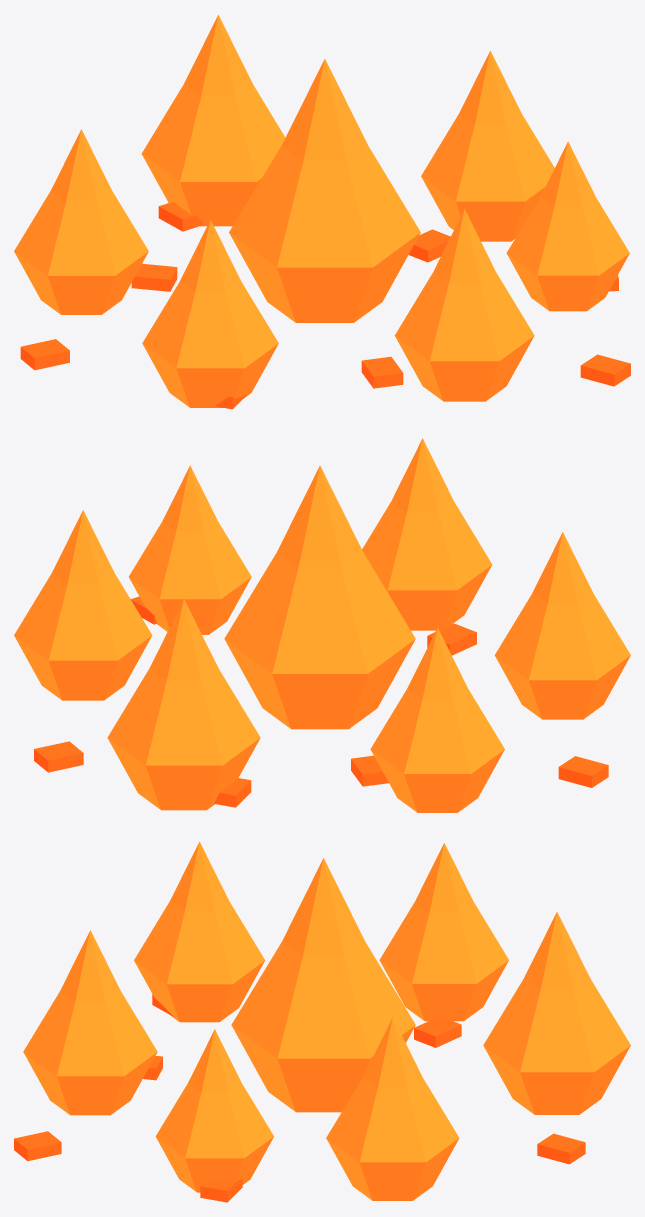
Rendered from flames.glb.
3 views of the same model, one above another, from view 1: azimuth 30°, elevation 25°; view 2: azimuth 150°, elevation 25°; view 3: azimuth 270°, elevation 25° (orthographic). The views are drawn at different scales.
Parts seen in each view (by area): view 1: flame_0_mesh, flame_2_mesh, flame_5_mesh, flame_4_mesh, flame_3_mesh, flame_1_mesh, flame_6_mesh, embers_mesh; view 2: flame_0_mesh, flame_2_mesh, flame_1_mesh, flame_4_mesh, flame_3_mesh, flame_5_mesh, flame_6_mesh, embers_mesh; view 3: flame_0_mesh, flame_2_mesh, flame_5_mesh, flame_1_mesh, flame_4_mesh, flame_3_mesh, flame_6_mesh, embers_mesh.
Part boxes in pixels (bbox=[...]): flame_0_mesh: bbox=[229, 59, 420, 322]; flame_2_mesh: bbox=[141, 15, 285, 226]; flame_5_mesh: bbox=[394, 209, 534, 401]; flame_4_mesh: bbox=[142, 220, 278, 407]; flame_3_mesh: bbox=[14, 129, 148, 314]; flame_1_mesh: bbox=[421, 51, 554, 241]; flame_6_mesh: bbox=[506, 141, 629, 311]; embers_mesh: bbox=[20, 202, 630, 409]; flame_0_mesh: bbox=[224, 465, 415, 729]; flame_2_mesh: bbox=[107, 599, 260, 810]; flame_1_mesh: bbox=[14, 510, 152, 700]; flame_4_mesh: bbox=[494, 532, 630, 719]; flame_3_mesh: bbox=[370, 627, 504, 812]; flame_5_mesh: bbox=[362, 438, 492, 630]; flame_6_mesh: bbox=[129, 465, 251, 634]; embers_mesh: bbox=[34, 596, 608, 807]; flame_0_mesh: bbox=[231, 858, 415, 1112]; flame_2_mesh: bbox=[483, 912, 630, 1114]; flame_5_mesh: bbox=[23, 930, 157, 1115]; flame_1_mesh: bbox=[326, 1017, 459, 1200]; flame_4_mesh: bbox=[134, 841, 265, 1022]; flame_3_mesh: bbox=[379, 843, 508, 1021]; flame_6_mesh: bbox=[155, 1029, 273, 1192]; embers_mesh: bbox=[14, 994, 585, 1202].
Bounding box in the file's own units: 1.42 × 0.6072 × 1.45.
